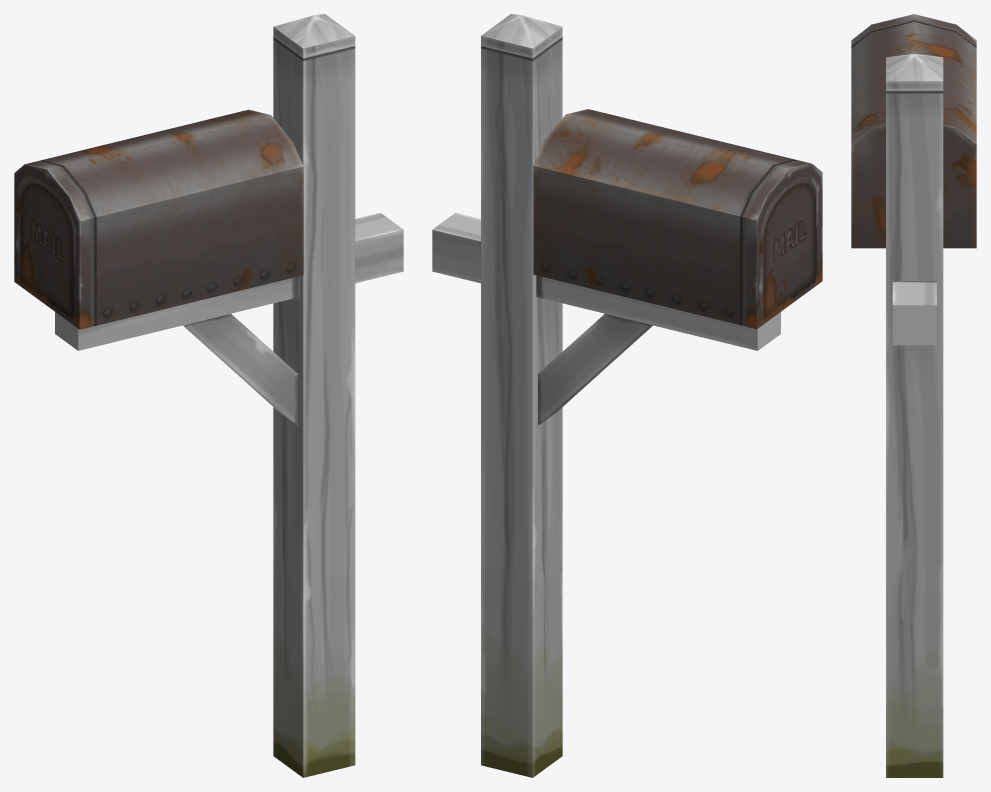
File: mailBox02.fbx
3 renders of one model, left to right at view 1: azimuth 30°, elevation 25°; view 2: azimuth 150°, elevation 25°; view 3: azimuth 270°, elevation 25°, orthographic. The views are drawn at different scales.
Parts seen in each view (by area): view 1: mailBox02; view 2: mailBox02; view 3: mailBox02.
Part boxes in pixels (x1=…): mailBox02: x1=14, y1=14, x2=403, y2=777; mailBox02: x1=432, y1=14, x2=822, y2=777; mailBox02: x1=851, y1=14, x2=976, y2=777.
Bounding box in the file's own units: 66.5 × 137 × 21.86.
